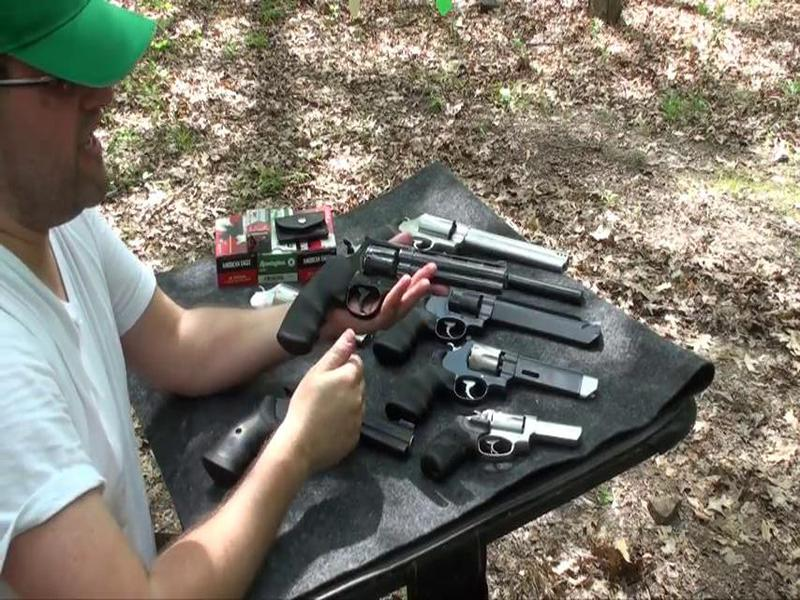Revolver: (281, 204, 520, 366)
